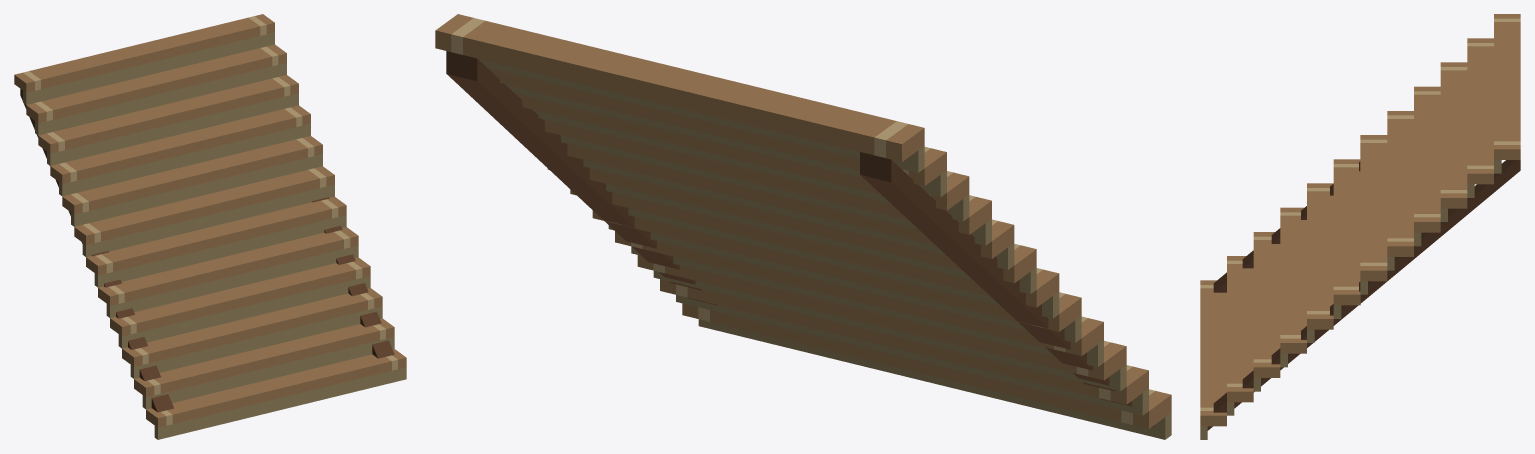
Rendered from stairs.glb.
The picture shows the model from 3 angles, left to right: view 1: azimuth 30°, elevation 25°; view 2: azimuth 150°, elevation 25°; view 3: azimuth 270°, elevation 25°; orthographic projection. The views are drawn at different scales.
Parts seen in each view (by area): view 1: stairs_mesh; view 2: stairs_mesh; view 3: stairs_mesh.
Part boxes in pixels (left/top/right/bottom): stairs_mesh: left=14, top=14, right=406, bottom=439; stairs_mesh: left=435, top=14, right=1171, bottom=439; stairs_mesh: left=1200, top=14, right=1520, bottom=439.
Bounding box in the file's own units: 3 × 3 × 3.
